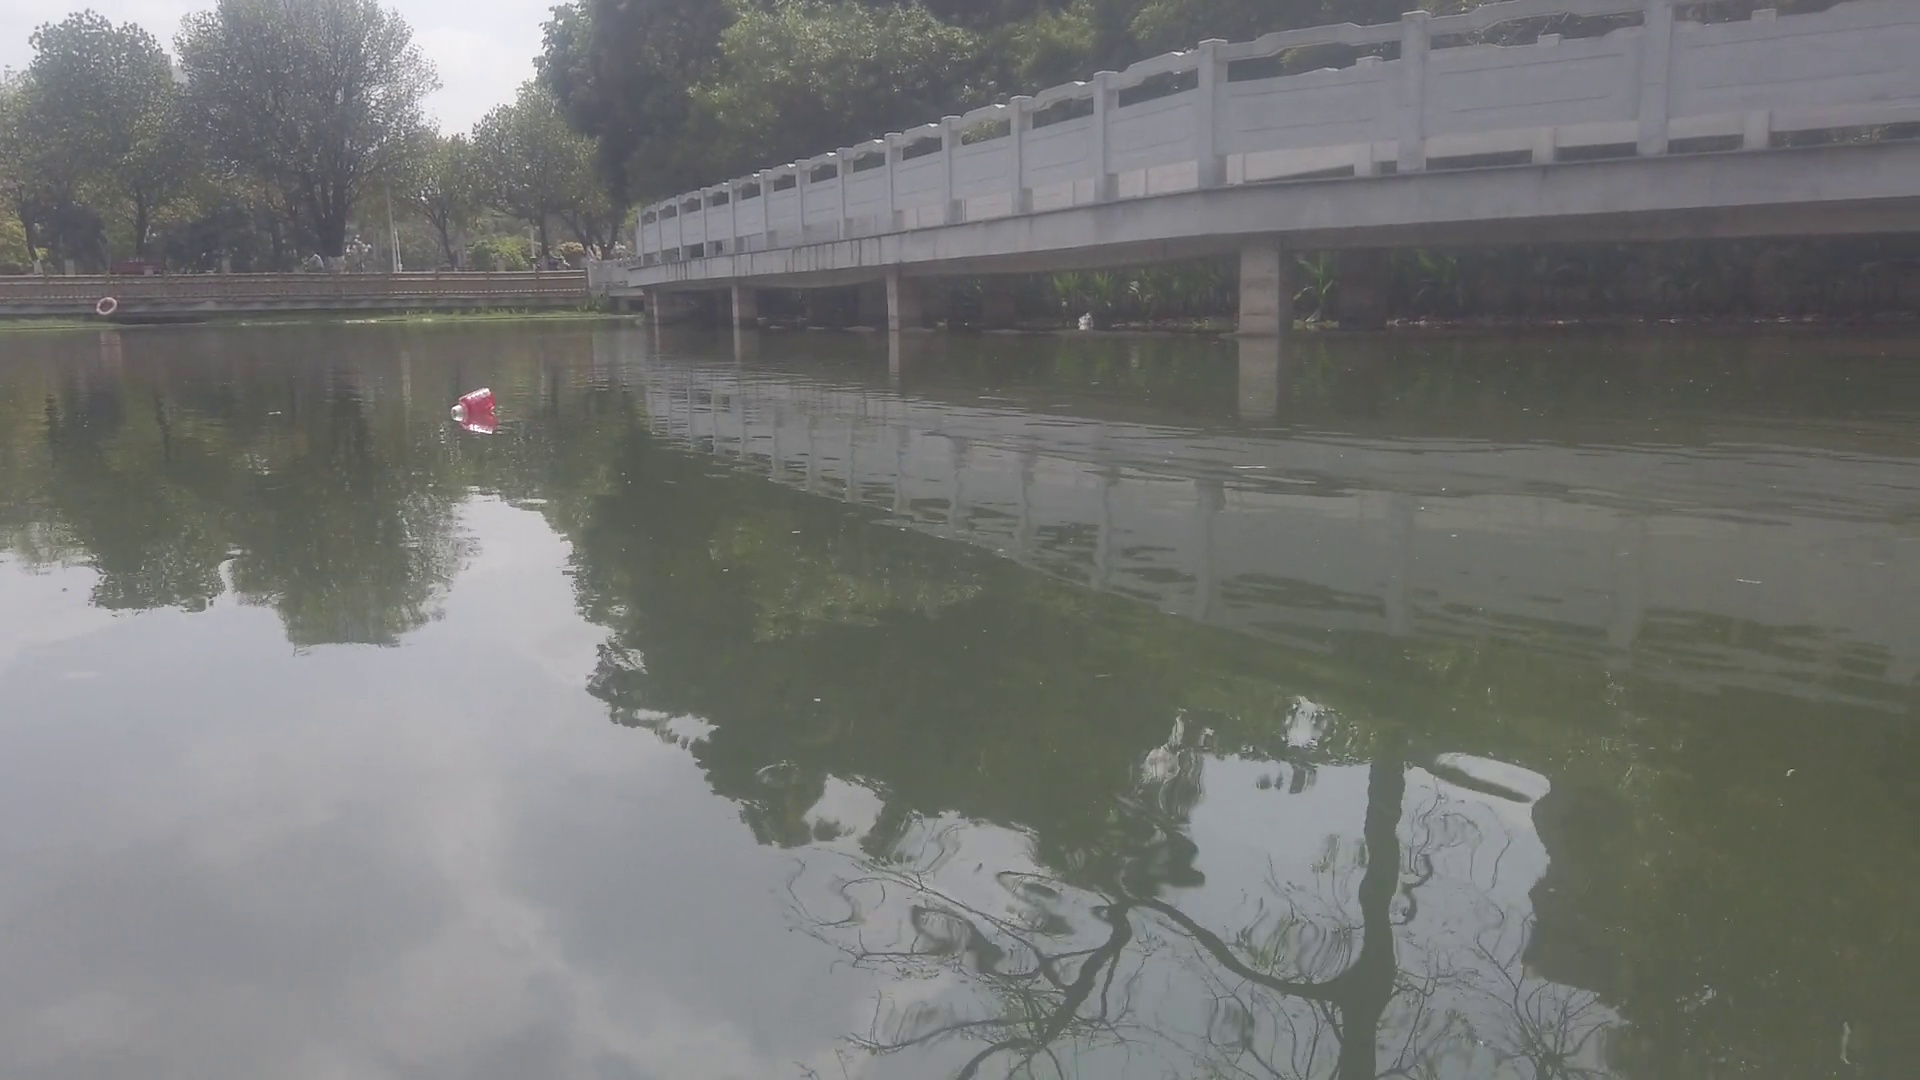bottle: (447, 386, 501, 419)
